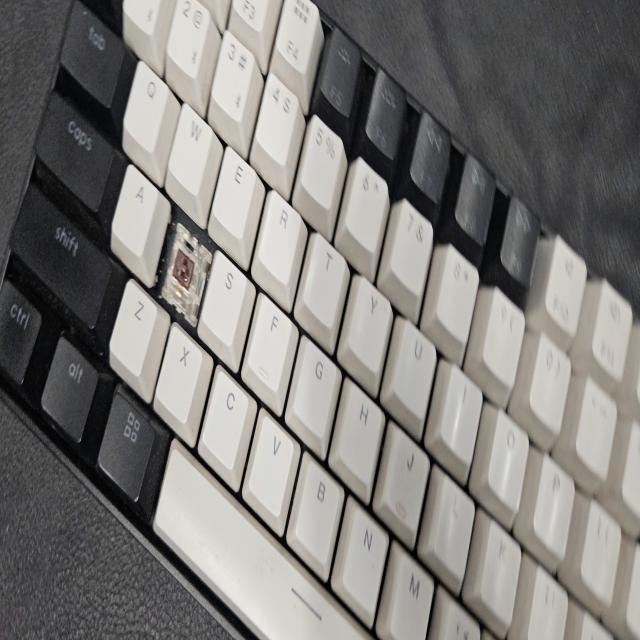C: (167, 234, 198, 304)
